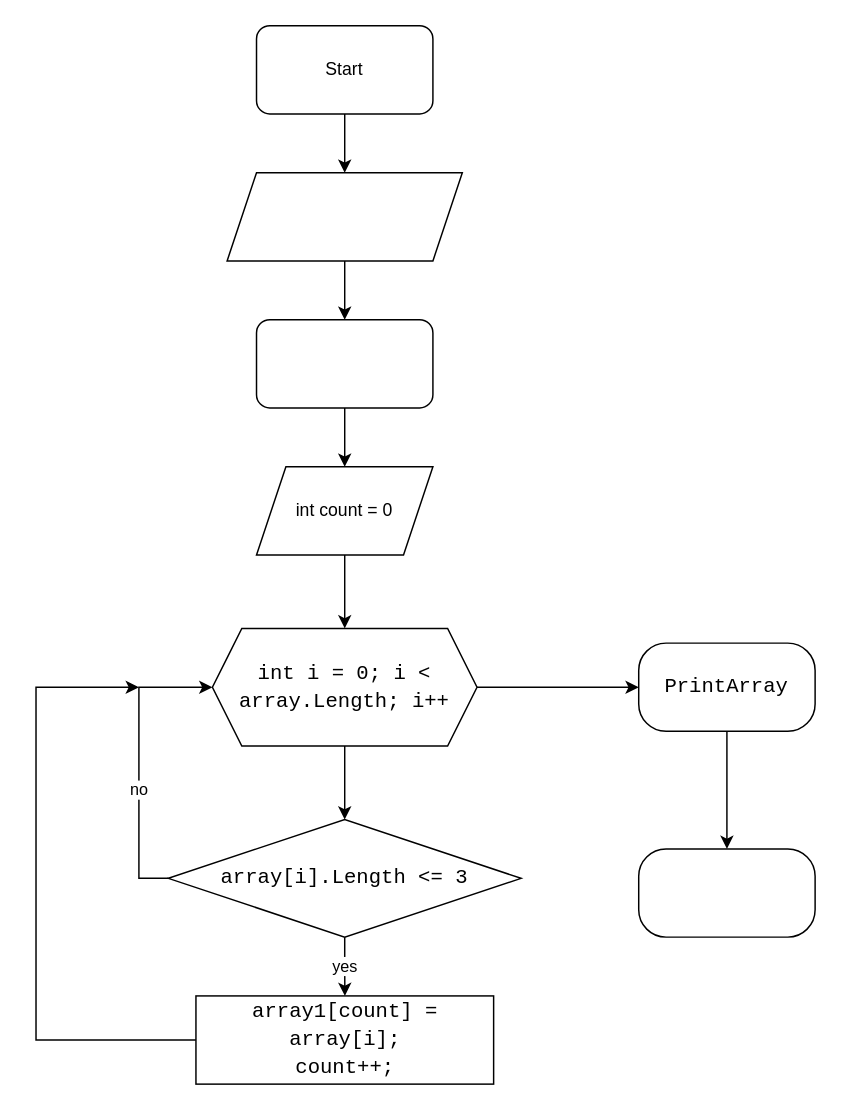
This 841x1110 diagram has some shape labels left out. Each missing label, with the centre of its shape:
"FillInNewArray" goes at pixel 344 363.
"Finish" goes at pixel 726 892.
"string[] array string[] array1" goes at pixel 344 216.
